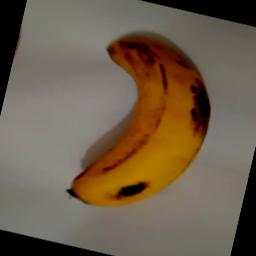Banana Unripe: (58, 26, 228, 228)
